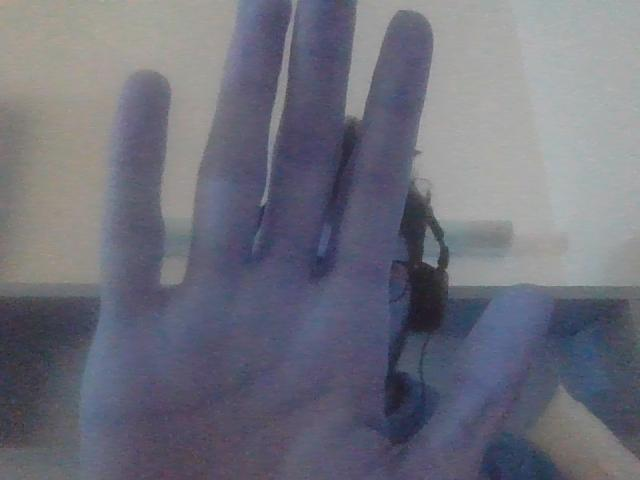Hello: (102, 1, 551, 480)
